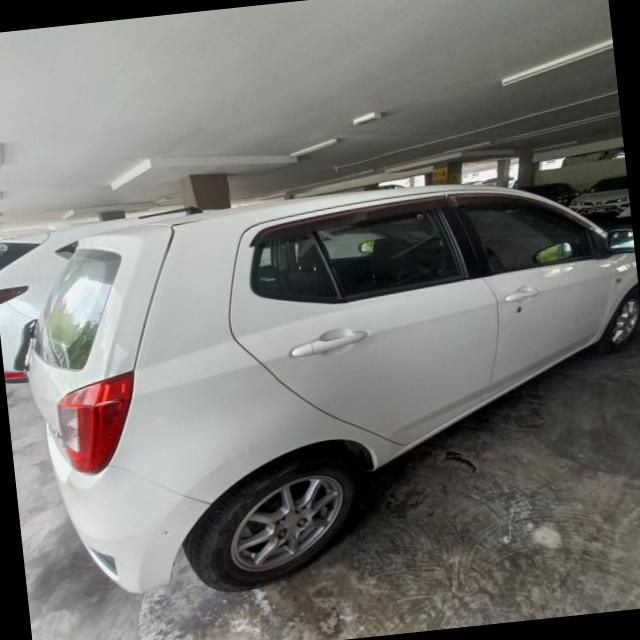PeroduaAxia: (0, 160, 640, 613)
